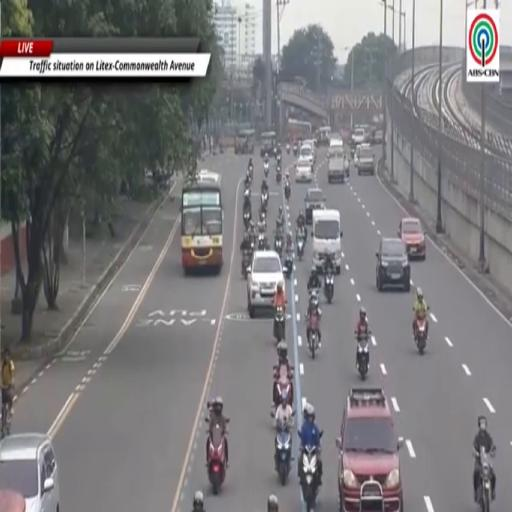bus: (181, 179, 223, 275), (286, 119, 311, 142), (318, 126, 331, 146)
car: (337, 388, 403, 511), (0, 434, 59, 511), (248, 251, 284, 317), (376, 237, 410, 292), (398, 218, 426, 260), (305, 188, 325, 223), (328, 150, 349, 183), (355, 144, 375, 175), (0, 490, 27, 511), (295, 159, 312, 183), (299, 143, 314, 168), (303, 139, 316, 163), (352, 128, 365, 145), (372, 130, 383, 143)
motorcycle: (207, 424, 226, 494), (300, 445, 319, 511), (477, 447, 494, 511), (275, 426, 292, 486), (274, 368, 293, 412), (357, 331, 369, 379), (308, 314, 319, 359), (415, 315, 426, 355), (274, 307, 285, 343), (324, 272, 333, 303), (242, 251, 251, 279), (284, 252, 293, 279), (243, 209, 252, 230), (297, 237, 304, 260), (274, 238, 282, 257), (261, 190, 268, 211), (258, 234, 267, 250), (261, 210, 267, 231), (285, 182, 290, 201), (276, 168, 281, 184), (264, 163, 269, 178), (276, 153, 282, 164), (249, 166, 253, 181), (293, 144, 297, 156), (286, 144, 290, 154)
